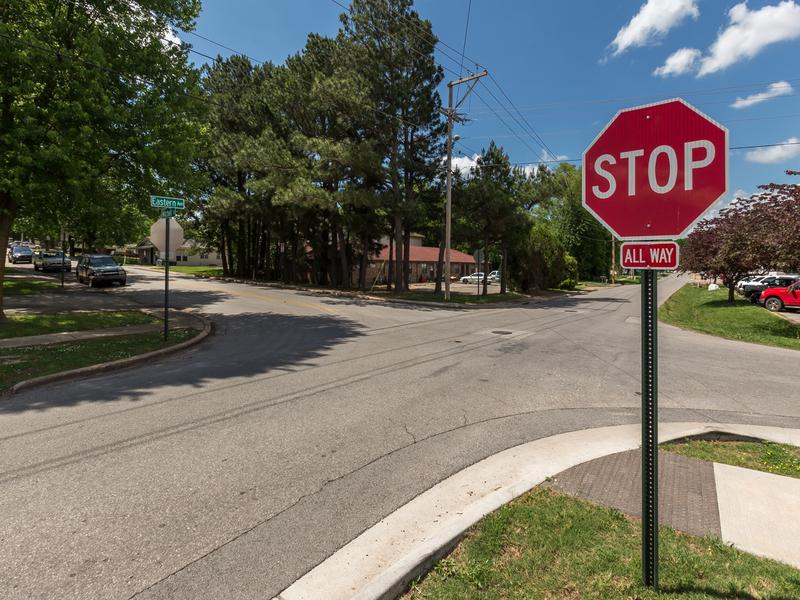stop: (579, 97, 729, 230)
